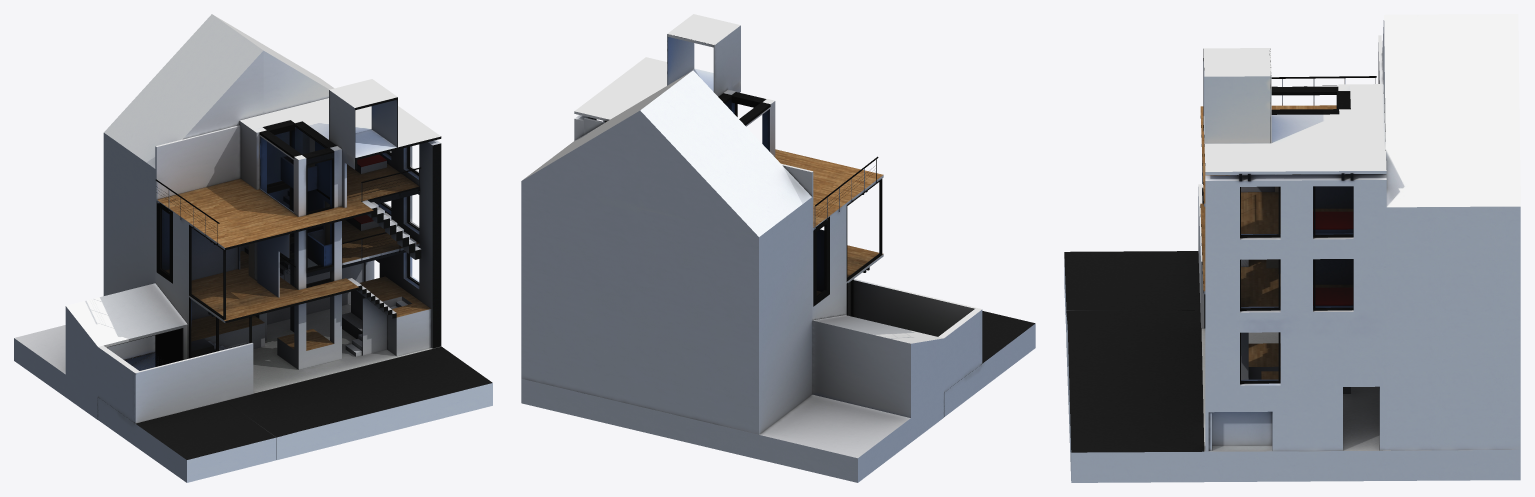
The model's file is house.glb.
3 views of the same model, side by side, from view 1: azimuth 30°, elevation 25°; view 2: azimuth 150°, elevation 25°; view 3: azimuth 270°, elevation 25° (orthographic). The views are drawn at different scales.
Parts seen in each view (by area): view 1: Object003_Object003_mtl_0, Object002_Object002_mtl_0, Object001_Object001_mtl_0, Object004_Object004_mtl_0; view 2: Object004_Object004_mtl_0, Object003_Object003_mtl_0, Object002_Object002_mtl_0, Object001_Object001_mtl_0; view 3: Object004_Object004_mtl_0, Object001_Object001_mtl_0, Object002_Object002_mtl_0, Object003_Object003_mtl_0.
Part boxes in pixels (box(x1,y1,x2,y2)): Object003_Object003_mtl_0: box(65, 14, 492, 482); Object002_Object002_mtl_0: box(14, 97, 492, 459); Object001_Object001_mtl_0: box(155, 79, 440, 355); Object004_Object004_mtl_0: box(103, 15, 431, 357); Object004_Object004_mtl_0: box(521, 71, 883, 434); Object003_Object003_mtl_0: box(521, 70, 1035, 482); Object002_Object002_mtl_0: box(605, 92, 1035, 482); Object001_Object001_mtl_0: box(574, 14, 883, 309); Object004_Object004_mtl_0: box(1202, 14, 1520, 450); Object001_Object001_mtl_0: box(1203, 48, 1386, 451); Object002_Object002_mtl_0: box(1064, 49, 1382, 452); Object003_Object003_mtl_0: box(1064, 20, 1520, 482).
Size of what is drawn, in the model's own units: 1435 by 1301 by 1361.
Materials: 4 (4 with a texture image).
